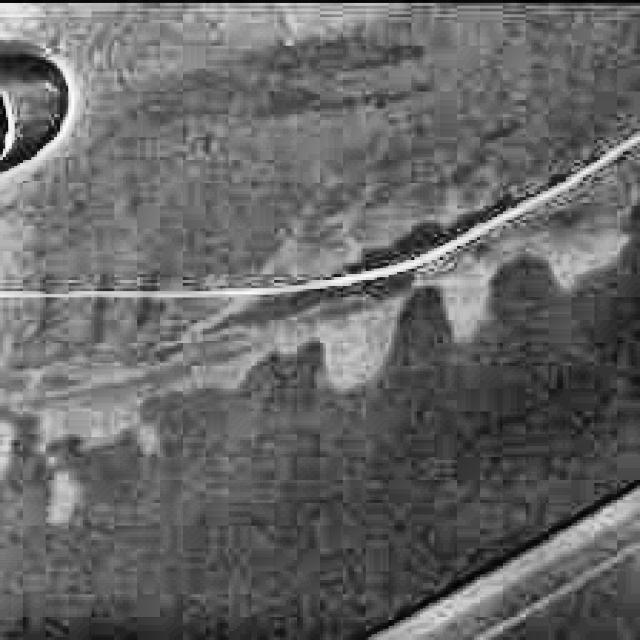door_scratch: (8, 259, 408, 327), (384, 151, 640, 257)
